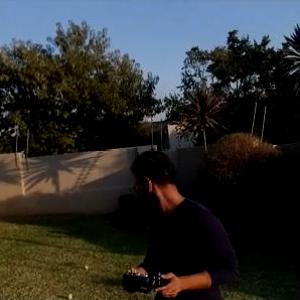follow: (118, 143, 246, 299)
